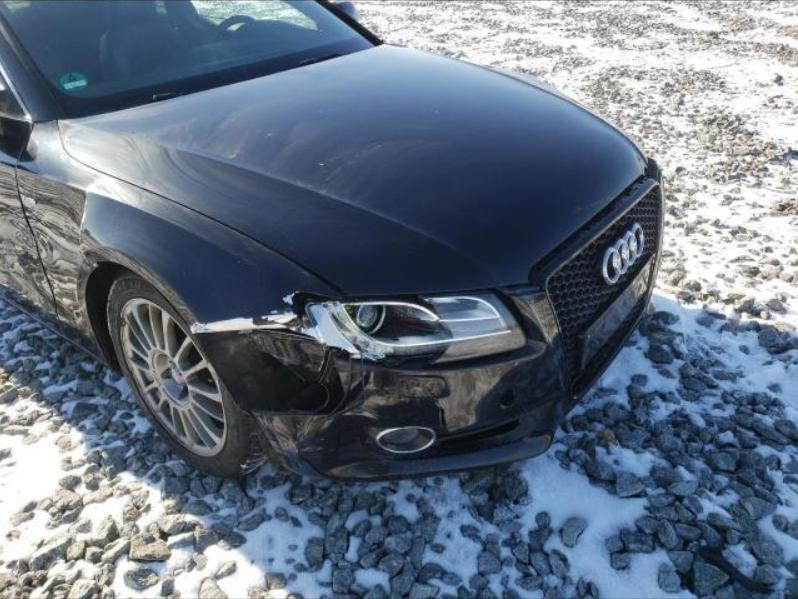Fender: (16, 122, 346, 465), (461, 61, 637, 149)
Front-bumper: (262, 288, 574, 477)
Front-door: (0, 62, 58, 333)
Front-wheel: (106, 276, 269, 480)
Front-window: (1, 72, 26, 118)
Grille: (535, 180, 663, 400)
Headlight: (309, 292, 531, 369), (645, 160, 663, 193)
Hood: (59, 43, 646, 299)
License-plate: (583, 256, 653, 371)
Mirror: (333, 1, 357, 20)
Windshield: (2, 1, 376, 118)
